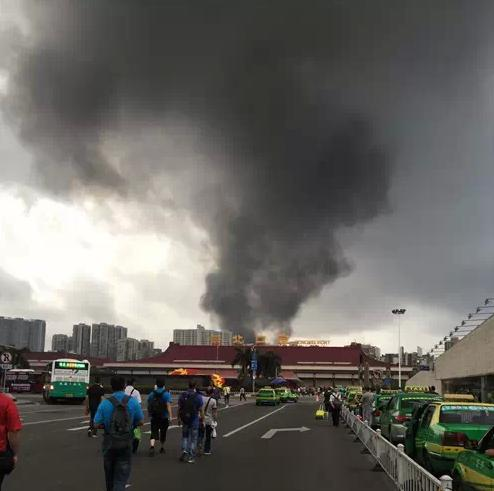smoke: (28, 8, 471, 316)
